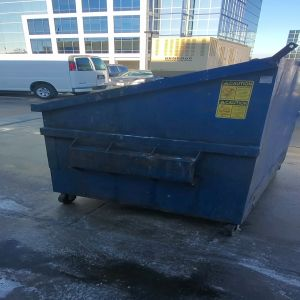Dumpster: (30, 56, 297, 238)
